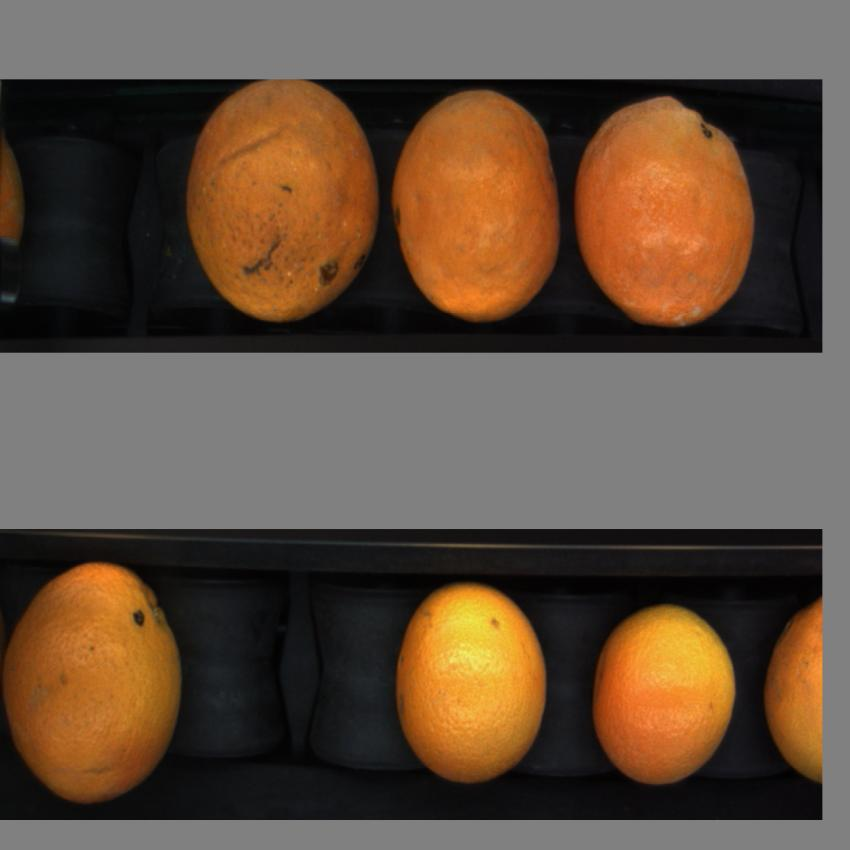Buen estado: (4, 550, 197, 812), (381, 568, 564, 789), (590, 604, 744, 789), (760, 597, 824, 792)
Mal estado: (185, 79, 385, 322), (570, 86, 758, 338), (393, 81, 563, 328)
